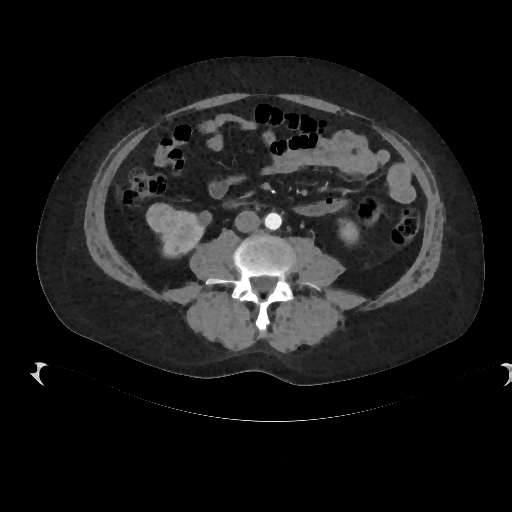Lesion: (146, 200, 174, 236)
